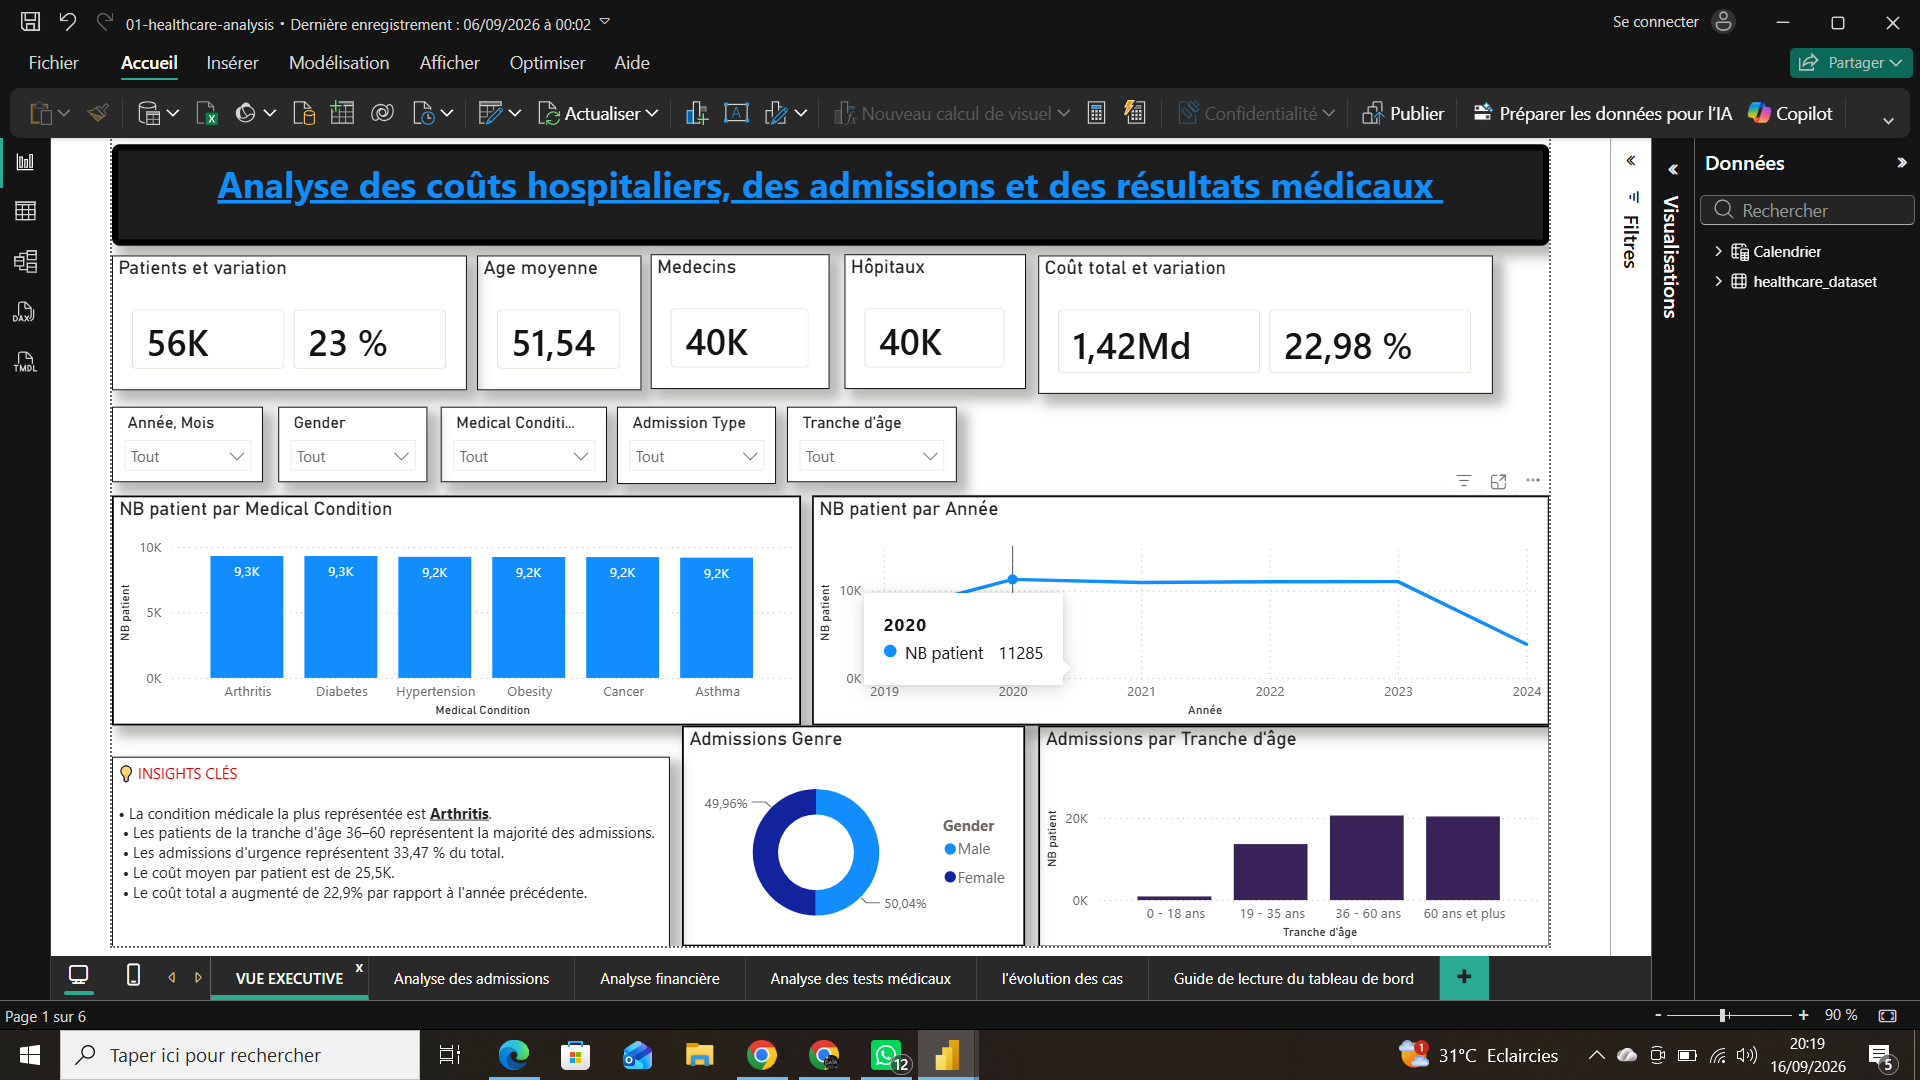

This screenshot's page, from the dashboard's own definition file:
{"tool":"powerbi","page":{"name":"VUE EXECUTIVE","canvas":[1280,720],"ordinal":0},"visuals":[{"type":"textbox","box":[0,5.5,1280.3,90.6],"z":0},{"type":"cardVisual","title":"Age moyenne","fields":{"Data":["healthcare_dataset.Age moyen"]},"box":[325.6,104.7,146.5,119.8],"z":1000},{"type":"cardVisual","title":"Medecins","fields":{"Data":["healthcare_dataset.Nbr medecin"]},"box":[480.2,103.5,159.3,119.8],"z":2000},{"type":"cardVisual","title":"Hôpitaux","fields":{"Data":["healthcare_dataset.Nbr hôpitaux"]},"box":[652.3,103.5,161.6,119.8],"z":3000},{"type":"clusteredColumnChart","title":"Admissions par Tranche d''âge","fields":{"Category":["healthcare_dataset.Tranche d'âge"],"Y":["healthcare_dataset.NB patient"]},"box":[824.4,523.3,455.8,197.7],"z":4000},{"type":"cardVisual","title":"Patients et variation ","fields":{"Data":["healthcare_dataset.NB patient","healthcare_dataset.Variation patients %"]},"box":[0,104.7,316.3,119.8],"z":5000},{"type":"cardVisual","title":"Coût total et variation","fields":{"Data":["healthcare_dataset.Coût total soins","healthcare_dataset.Variation coût %"]},"box":[824.4,104.7,404.7,123.3],"z":6000},{"type":"slicer","fields":{"Values":["Calendrier.Année","Calendrier.Mois"]},"box":[0,239.5,134.5,67.2],"z":7000},{"type":"slicer","fields":{"Values":["healthcare_dataset.Medical Condition"]},"box":[293,239.5,148.2,67.2],"z":8000},{"type":"slicer","fields":{"Values":["healthcare_dataset.Gender"]},"box":[147.7,239.5,133.1,67.2],"z":9000},{"type":"slicer","fields":{"Values":["healthcare_dataset.Admission Type"]},"box":[450,239.5,141.9,68.6],"z":10000},{"type":"slicer","fields":{"Values":["healthcare_dataset.Tranche d'âge"]},"box":[601.2,239.5,151.2,67.4],"z":11000},{"type":"clusteredColumnChart","fields":{"Y":["healthcare_dataset.NB patient"],"Category":["healthcare_dataset.Medical Condition"]},"box":[0,318.6,614,204.7],"z":12000},{"type":"lineChart","fields":{"Category":["Calendrier.Année"],"Y":["healthcare_dataset.NB patient"]},"box":[623.3,318.6,657,204.7],"z":13000},{"type":"donutChart","title":"Admissions Genre","fields":{"Category":["healthcare_dataset.Gender"],"Y":["CountNonNull(healthcare_dataset.Name)"]},"box":[508.1,523.3,305.8,196.5],"z":14000},{"type":"textbox","box":[0,551.2,496.5,169.8],"z":15000}]}

Visuals, with their boxes on the page's 1280x720 design canvas (x1, y1, x2, y2). These are canvas units, not pixel positions in the 1920x1080 screenshot, which may show the page scaled, cropped or inside an application window:
textbox: (left=0, top=6, right=1280, bottom=96)
"Age moyenne" cardVisual: (left=326, top=105, right=472, bottom=224)
"Medecins" cardVisual: (left=480, top=104, right=640, bottom=223)
"Hôpitaux" cardVisual: (left=652, top=104, right=814, bottom=223)
"Admissions par Tranche d''âge" clusteredColumnChart: (left=824, top=523, right=1280, bottom=721)
"Patients et variation " cardVisual: (left=0, top=105, right=316, bottom=224)
"Coût total et variation" cardVisual: (left=824, top=105, right=1229, bottom=228)
slicer - Calendrier.Année x Calendrier.Mois: (left=0, top=240, right=134, bottom=307)
slicer - healthcare_dataset.Medical Condition: (left=293, top=240, right=441, bottom=307)
slicer - healthcare_dataset.Gender: (left=148, top=240, right=281, bottom=307)
slicer - healthcare_dataset.Admission Type: (left=450, top=240, right=592, bottom=308)
slicer - healthcare_dataset.Tranche d'âge: (left=601, top=240, right=752, bottom=307)
clusteredColumnChart - healthcare_dataset.NB patient x healthcare_dataset.Medical Condition: (left=0, top=319, right=614, bottom=523)
lineChart - Calendrier.Année x healthcare_dataset.NB patient: (left=623, top=319, right=1280, bottom=523)
"Admissions Genre" donutChart: (left=508, top=523, right=814, bottom=720)
textbox: (left=0, top=551, right=496, bottom=721)
